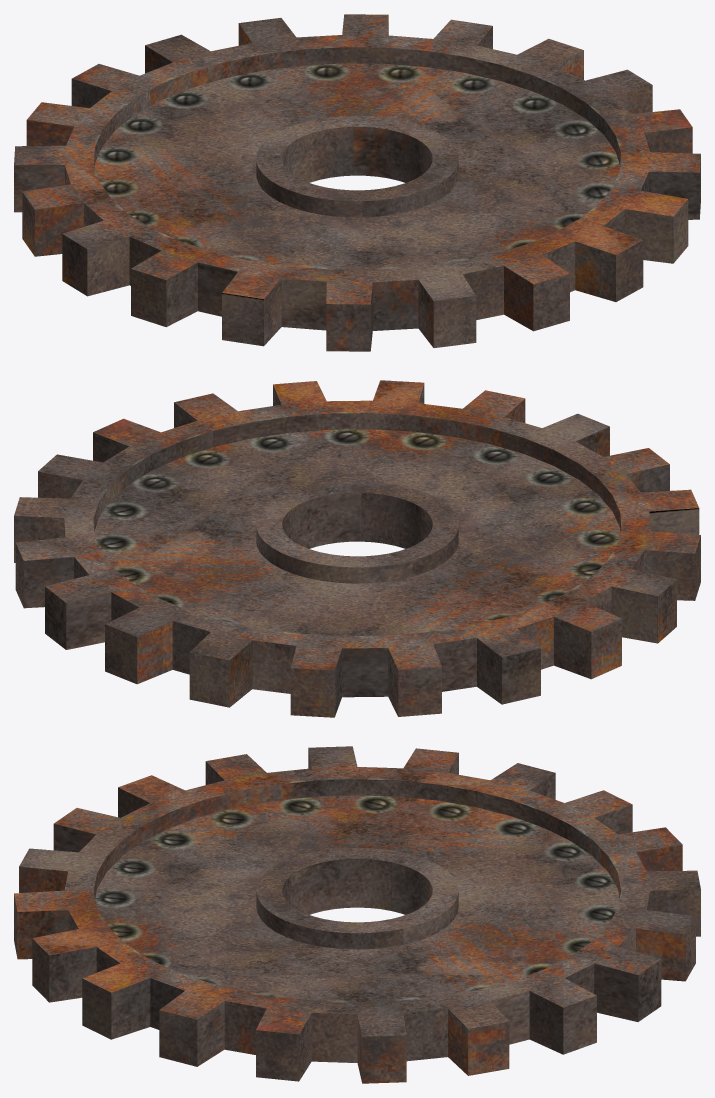
The model's file is RustedGear.fbx.
The picture shows the model from 3 angles, top to bottom: view 1: azimuth 30°, elevation 25°; view 2: azimuth 150°, elevation 25°; view 3: azimuth 270°, elevation 25°; orthographic projection.
Parts seen in each view (by area): view 1: pPipe1; view 2: pPipe1; view 3: pPipe1.
Part boxes in pixels (x1,y1,x2,y2): pPipe1: (14,14,700,351); pPipe1: (14,380,700,717); pPipe1: (14,746,700,1083).
Bounding box in the file's own units: 23.35 × 1.83 × 23.35.
